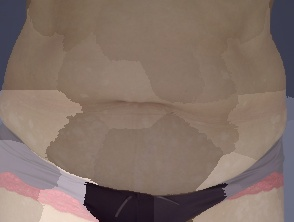vitiligo: (0, 31, 294, 211), (189, 184, 291, 222)
